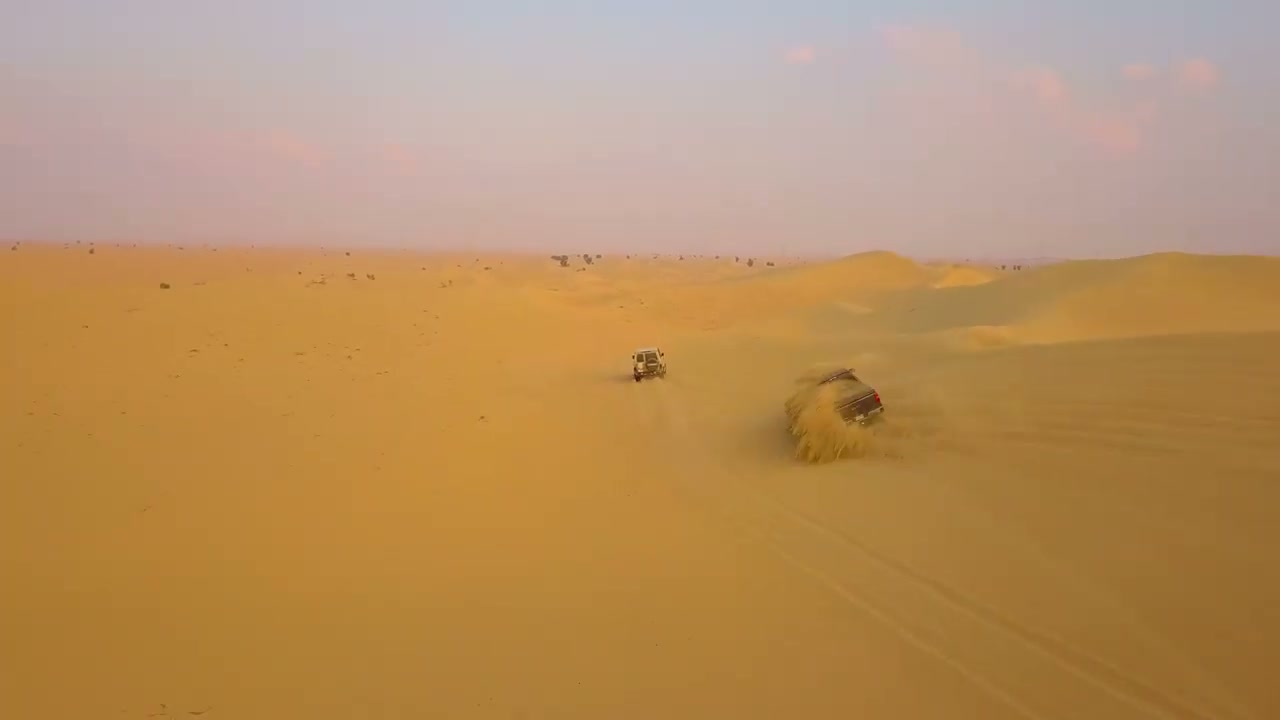vehicle_track: (653, 383, 1251, 719)
